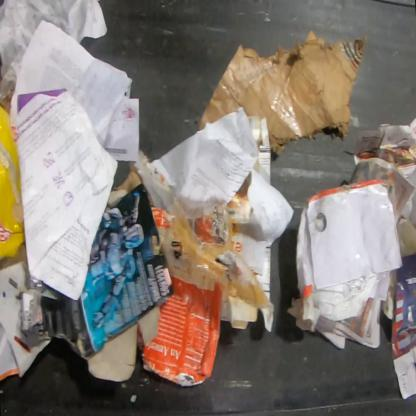cardboard: (197, 29, 368, 156), (138, 205, 224, 388), (21, 275, 161, 383), (305, 178, 404, 291), (189, 178, 253, 254), (107, 161, 143, 208)
soft_plastic: (132, 148, 271, 310), (0, 101, 26, 263)
